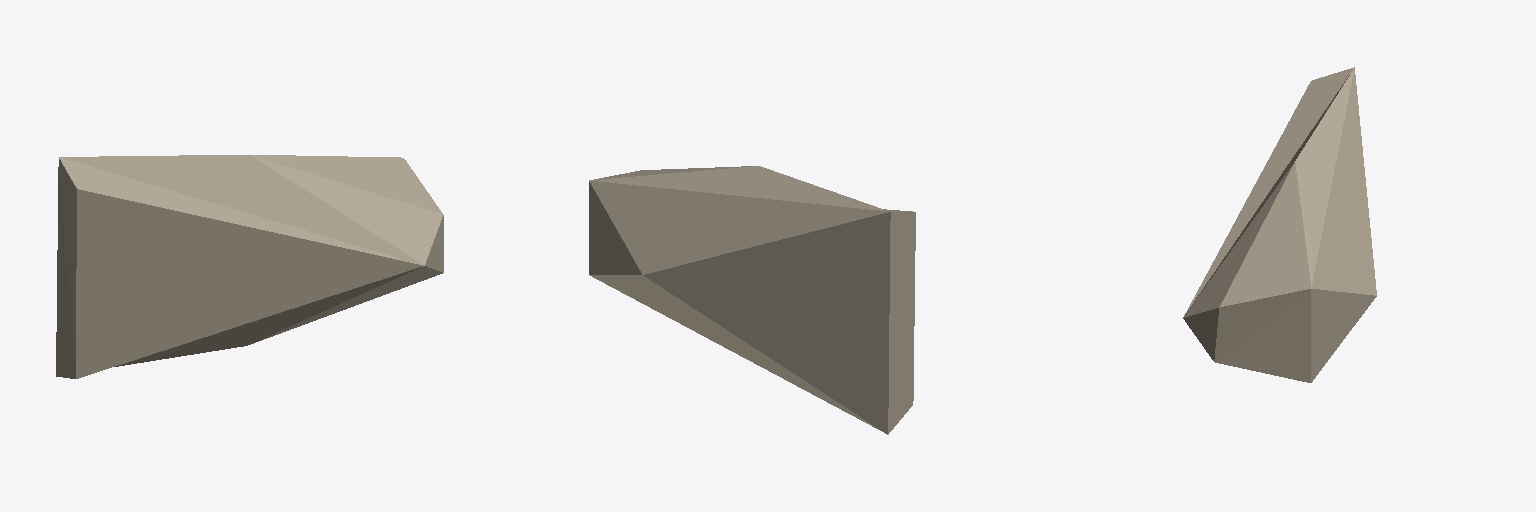
File: PelvisCol.obj
3 renders of one model, left to right at view 1: azimuth 30°, elevation 25°; view 2: azimuth 150°, elevation 25°; view 3: azimuth 270°, elevation 25°, orthographic.
Parts seen in each view (by area): view 1: Mesh.082_polySurface21; view 2: Mesh.082_polySurface21; view 3: Mesh.082_polySurface21.
Part boxes in pixels (left/top/right/bottom): Mesh.082_polySurface21: left=56, top=155, right=443, bottom=378; Mesh.082_polySurface21: left=589, top=166, right=915, bottom=434; Mesh.082_polySurface21: left=1183, top=67, right=1376, bottom=382.
Size of the model in its own units: 0.4364 by 0.2822 by 0.2244.